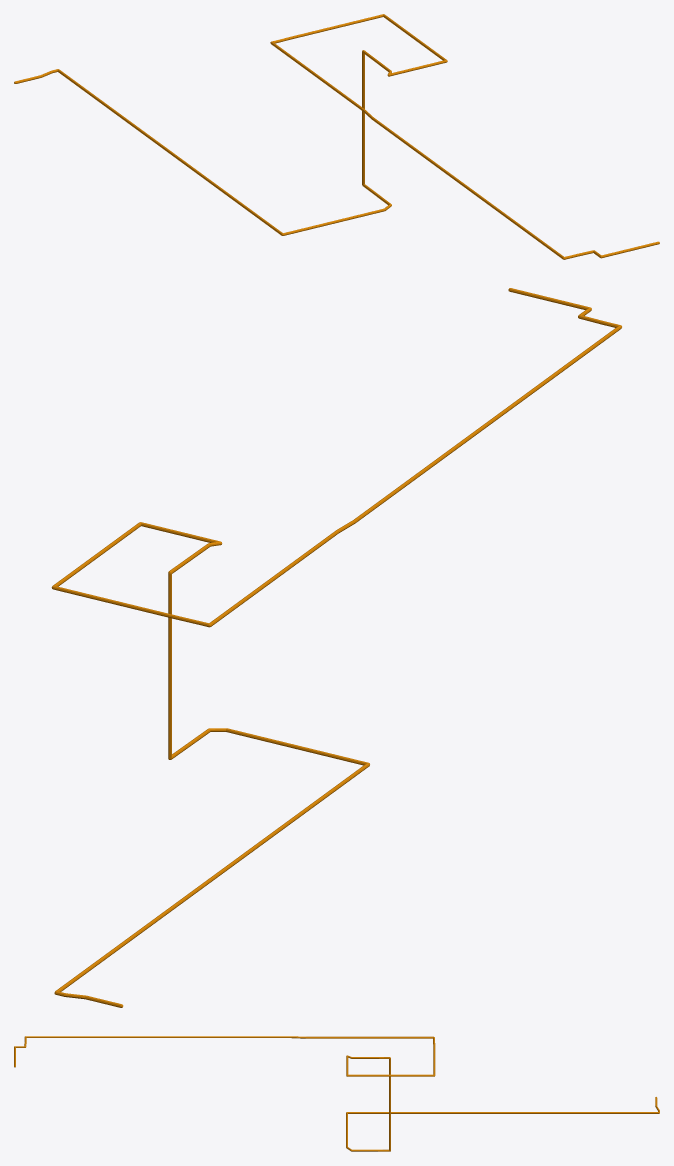
The picture shows the model from 3 angles, top to bottom: view 1: azimuth 30°, elevation 25°; view 2: azimuth 150°, elevation 25°; view 3: azimuth 270°, elevation 25°; orthographic projection. The views are drawn at different scales.
Bounding box in the file's own units: 1656 × 1020 × 6318.
